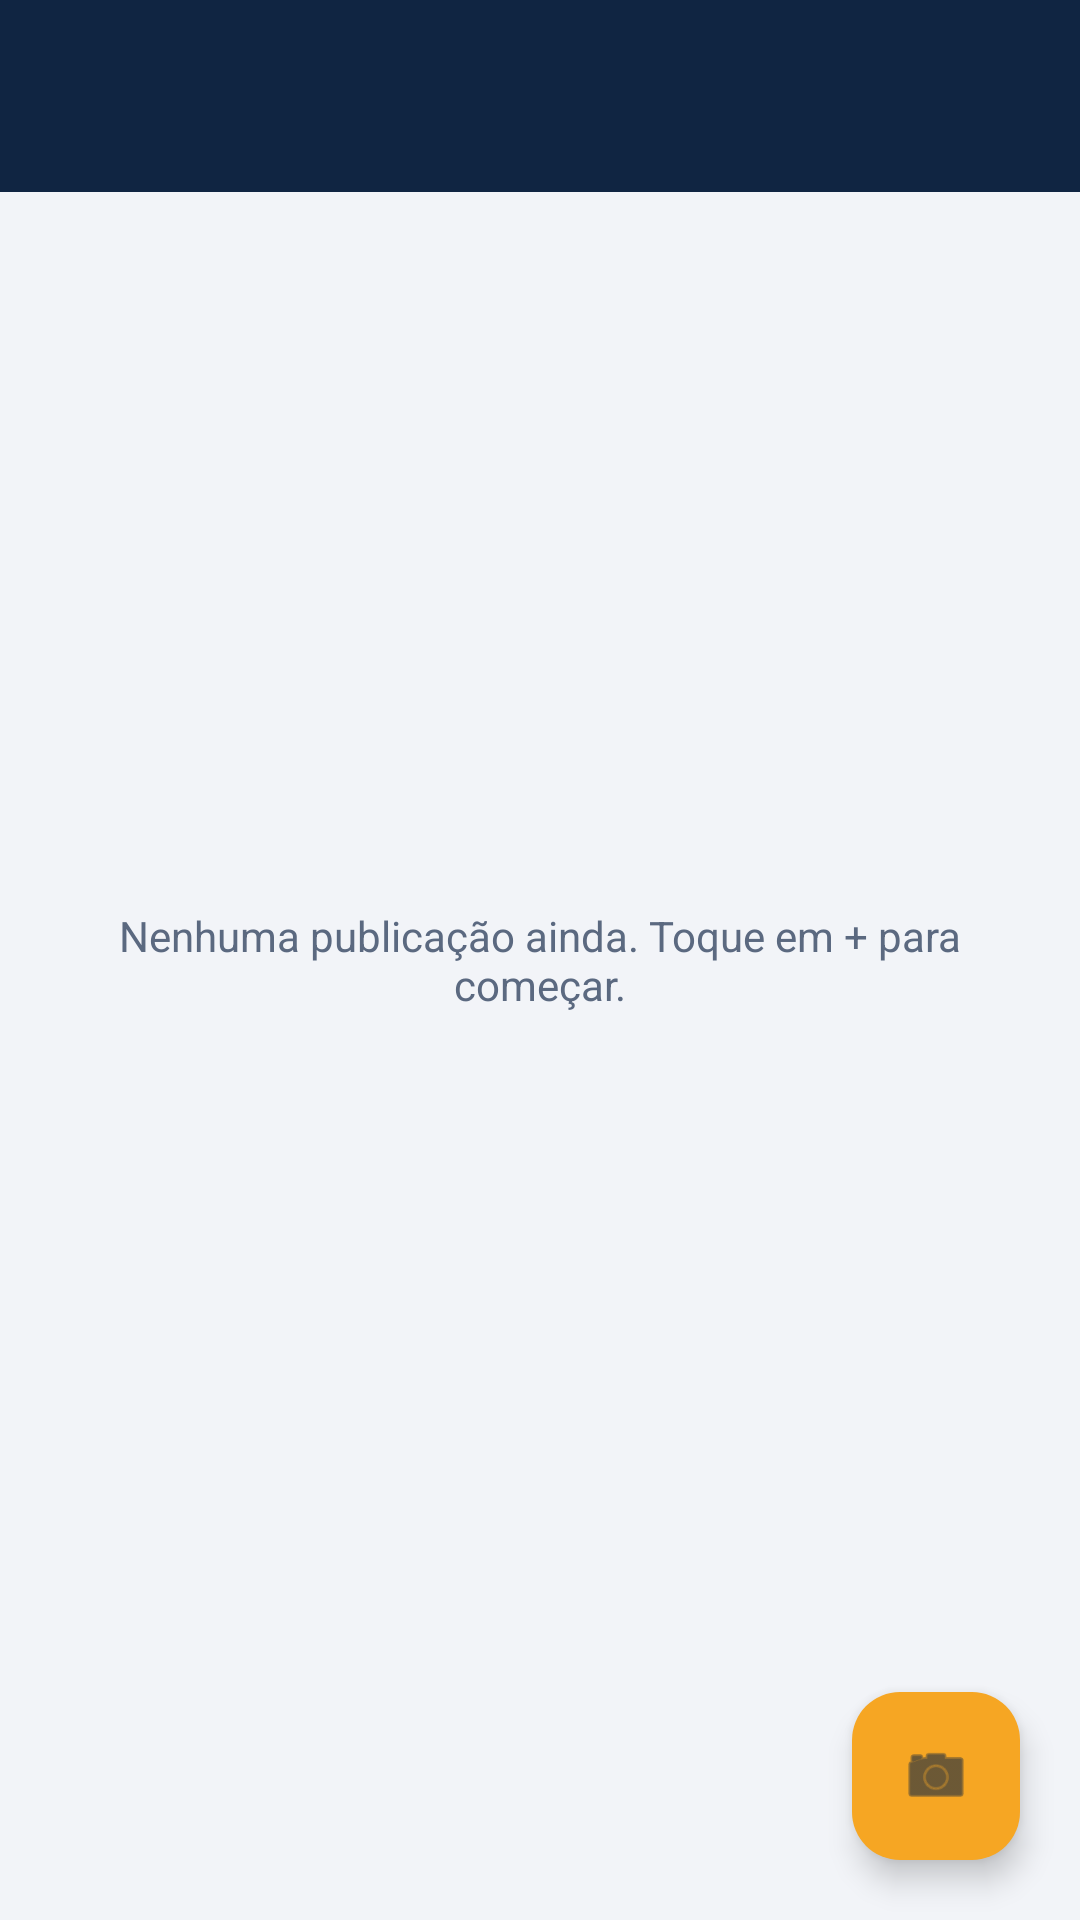

Icon bounding boxes for this 1080×1920 phone screenshot, format [left=x1, top=y1, right=x2, bottom=y2]:
Nova publicação: [left=852, top=1692, right=1020, bottom=1860]
